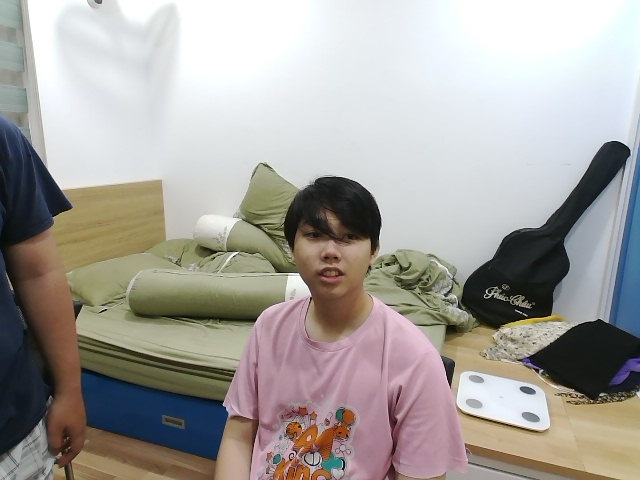face: (284, 177, 383, 299)
